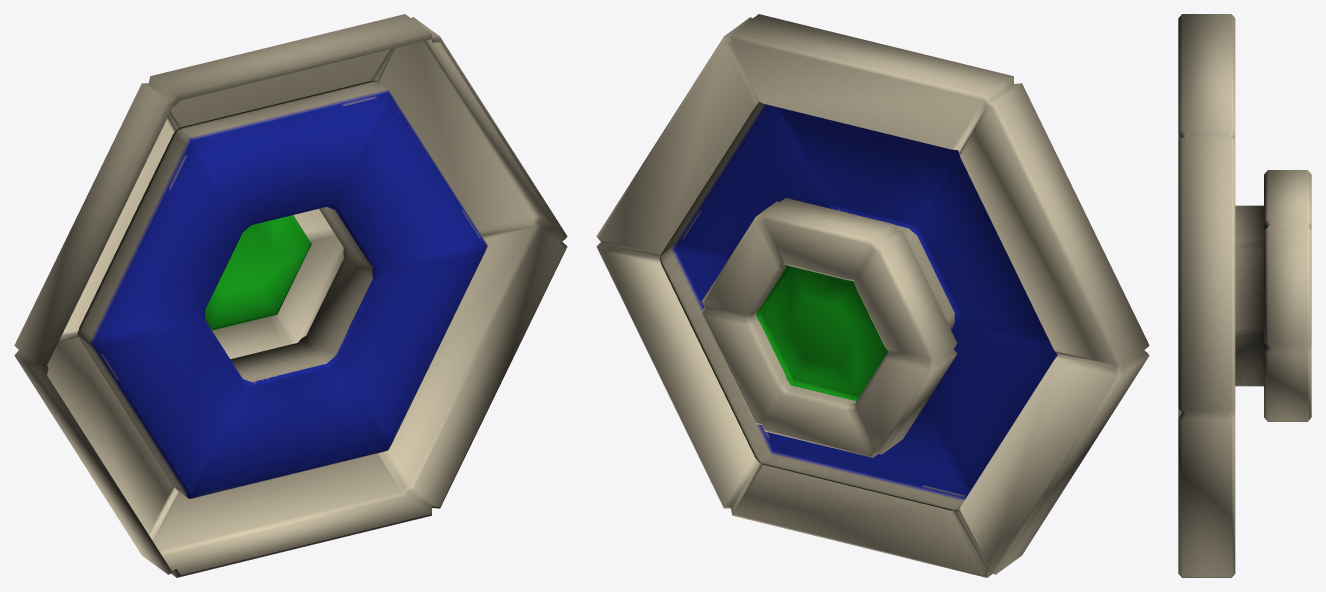
File: fountain.fbx
The picture shows the model from 3 angles, left to right: view 1: azimuth 30°, elevation 25°; view 2: azimuth 150°, elevation 25°; view 3: azimuth 270°, elevation 25°; orthographic projection. The views are drawn at different scales.
Parts seen in each view (by area): view 1: fountain; view 2: fountain; view 3: fountain.
Boxes of the visible parts, x1=… form: fountain: x1=14, y1=14, x2=567, y2=577; fountain: x1=596, y1=14, x2=1149, y2=577; fountain: x1=1178, y1=14, x2=1311, y2=577.
Bounding box in the file's own units: 59378 × 51962 × 14000.
